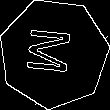M_E: (26, 28, 81, 79)
